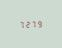nine: (36, 19, 41, 27)
seven: (18, 20, 23, 28), (30, 20, 35, 27)
two: (24, 20, 29, 28)
